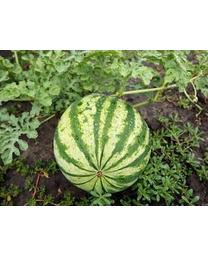watermelon: (50, 93, 155, 195)
